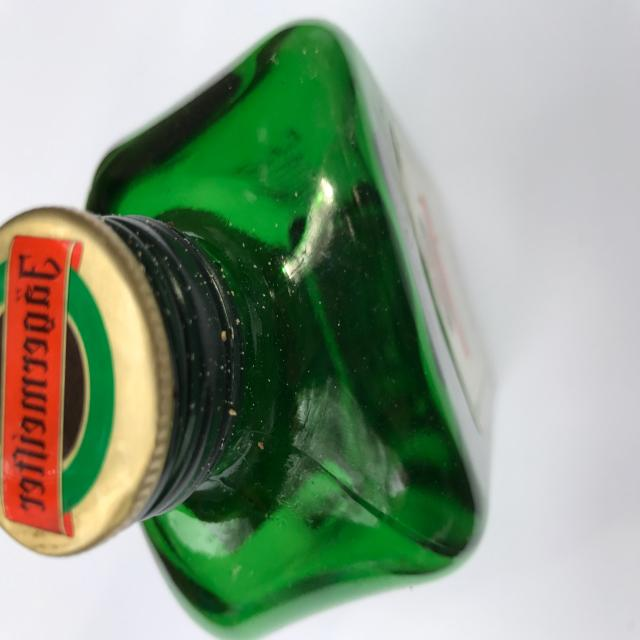glass: (0, 17, 495, 640)
